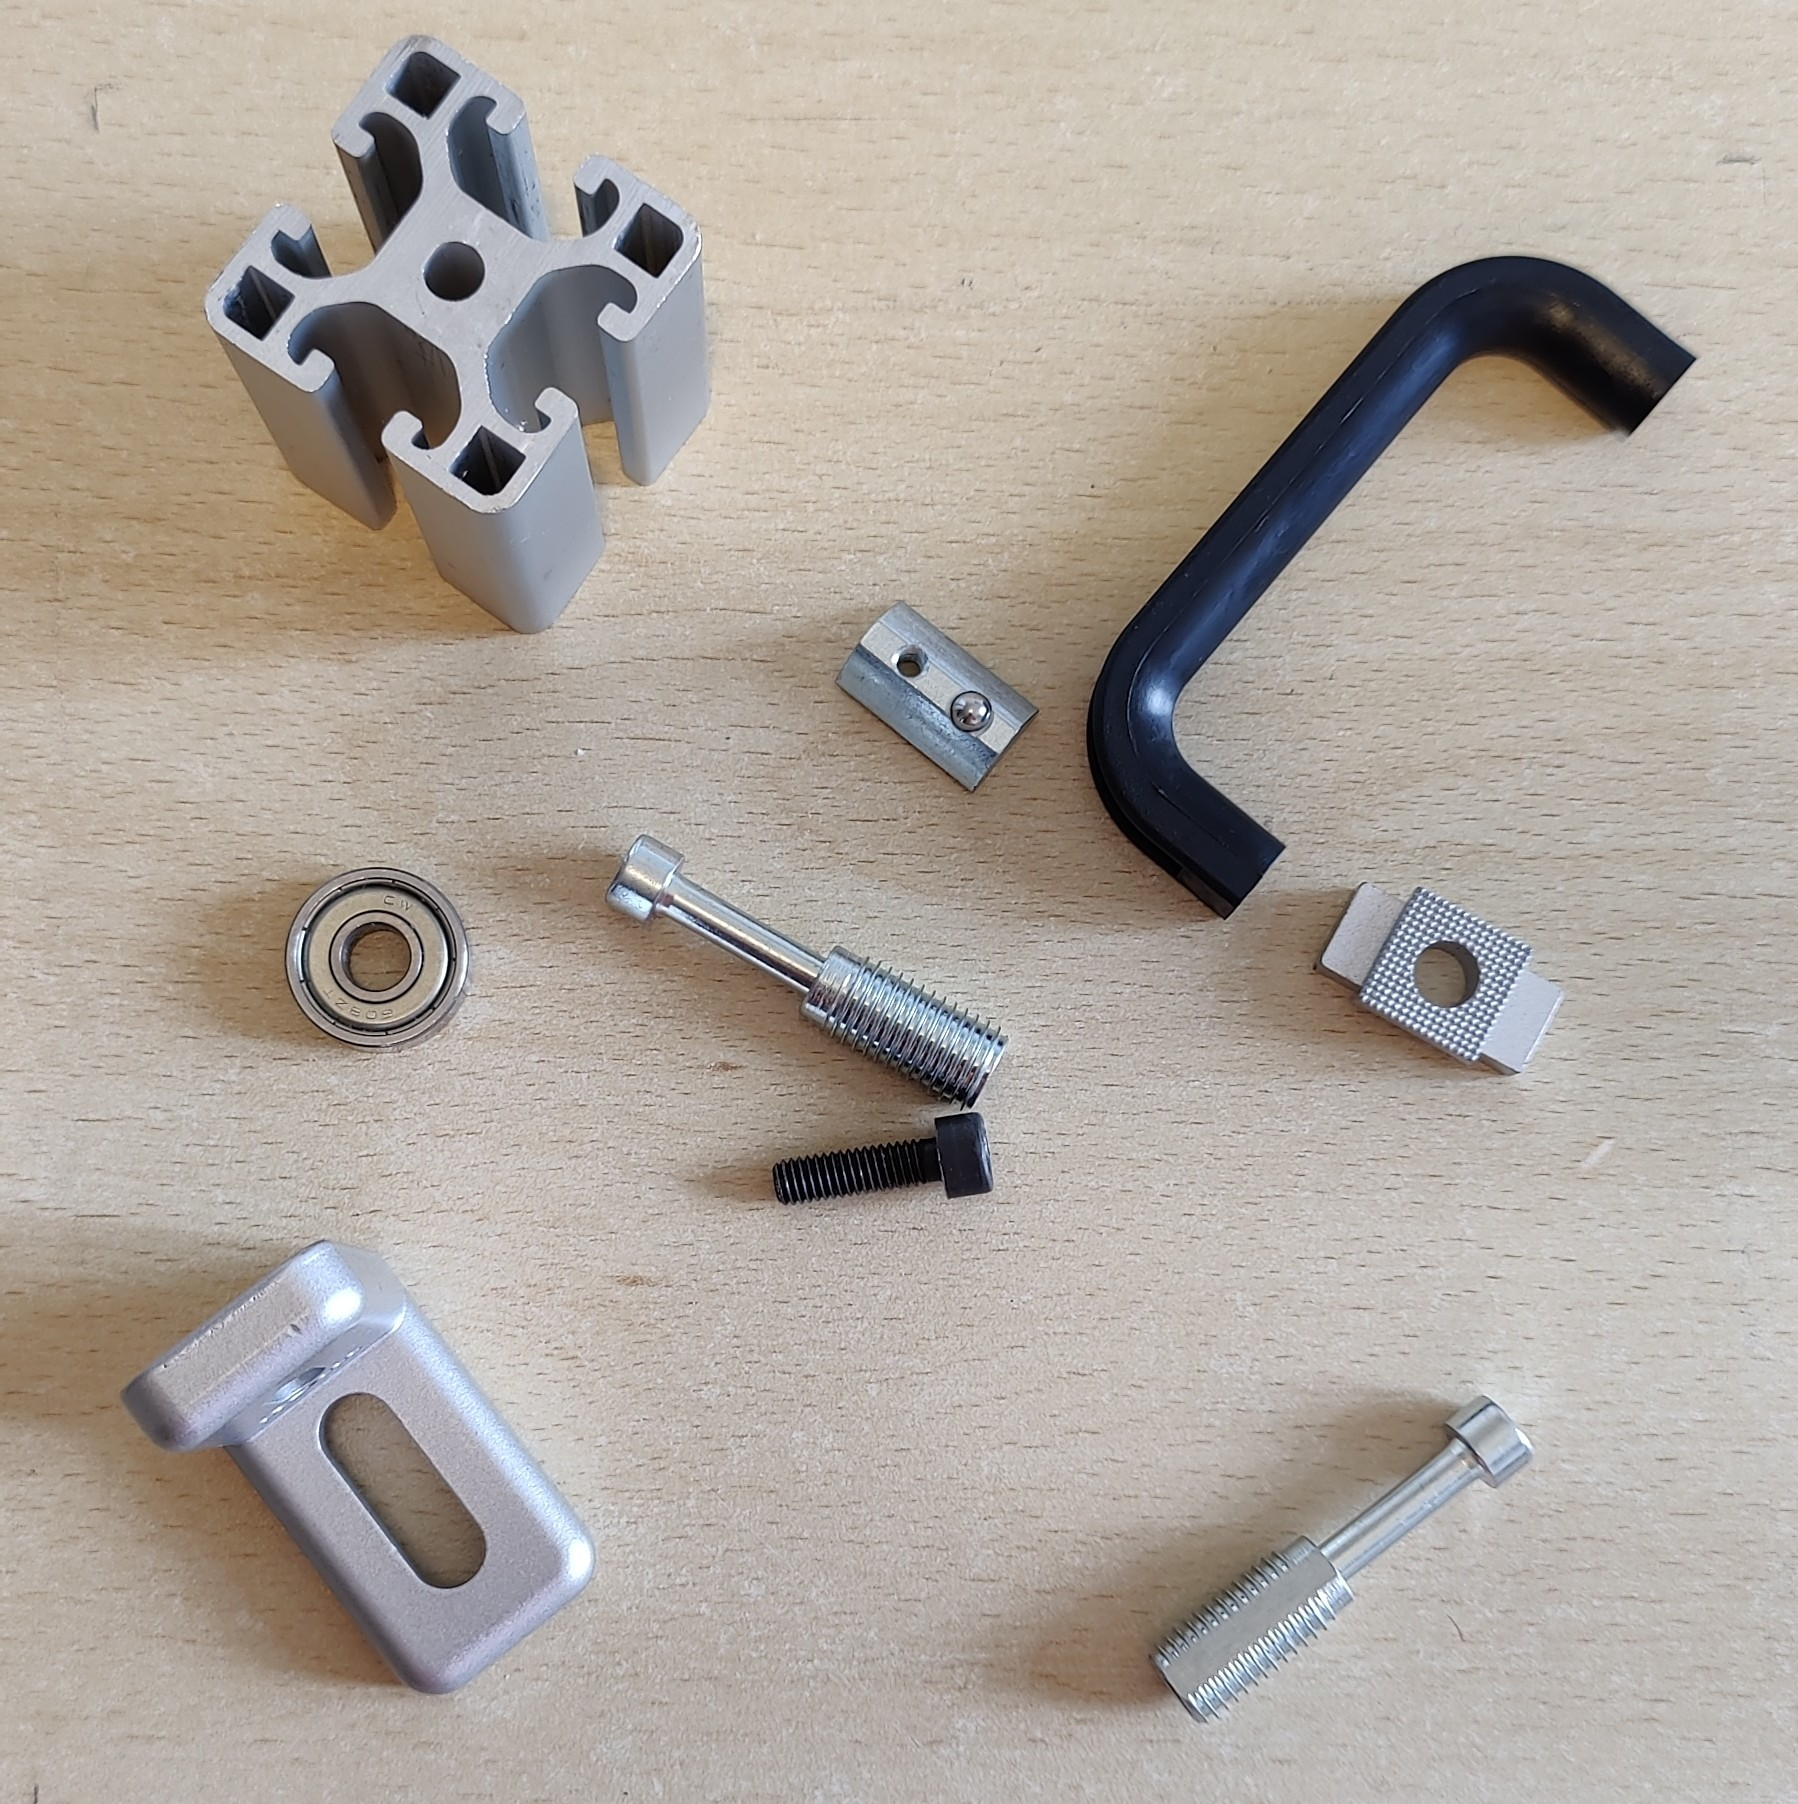Aluminium Extension: (199, 31, 713, 635)
Ball Bearing: (282, 864, 474, 1055)
Multiwinkel: (117, 1234, 599, 1695)
Pull Handle: (1083, 252, 1699, 922)
Shoulder Socket Head Cap Screw: (1139, 1389, 1539, 1728), (604, 830, 1014, 1108)
Socket Head Cap Screw: (771, 1108, 998, 1208)
T Nut Square: (1312, 877, 1571, 1078)
T Spring Nut: (831, 599, 1042, 793)
